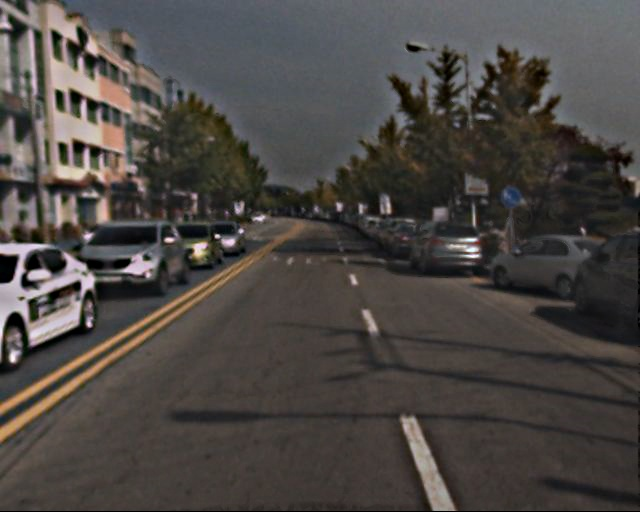person: (497, 214, 519, 268), (566, 219, 588, 272), (480, 215, 500, 263)
